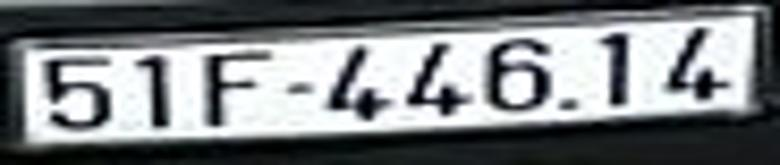-: (286, 83, 313, 93)
.: (562, 102, 574, 108)
1: (137, 53, 168, 126), (600, 33, 629, 105)
4: (664, 27, 732, 101), (406, 44, 465, 117), (329, 47, 386, 119)
5: (44, 57, 111, 128)
6: (486, 39, 549, 109)
F: (208, 52, 267, 125)
